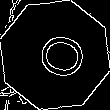O_W: (24, 27, 86, 83)
